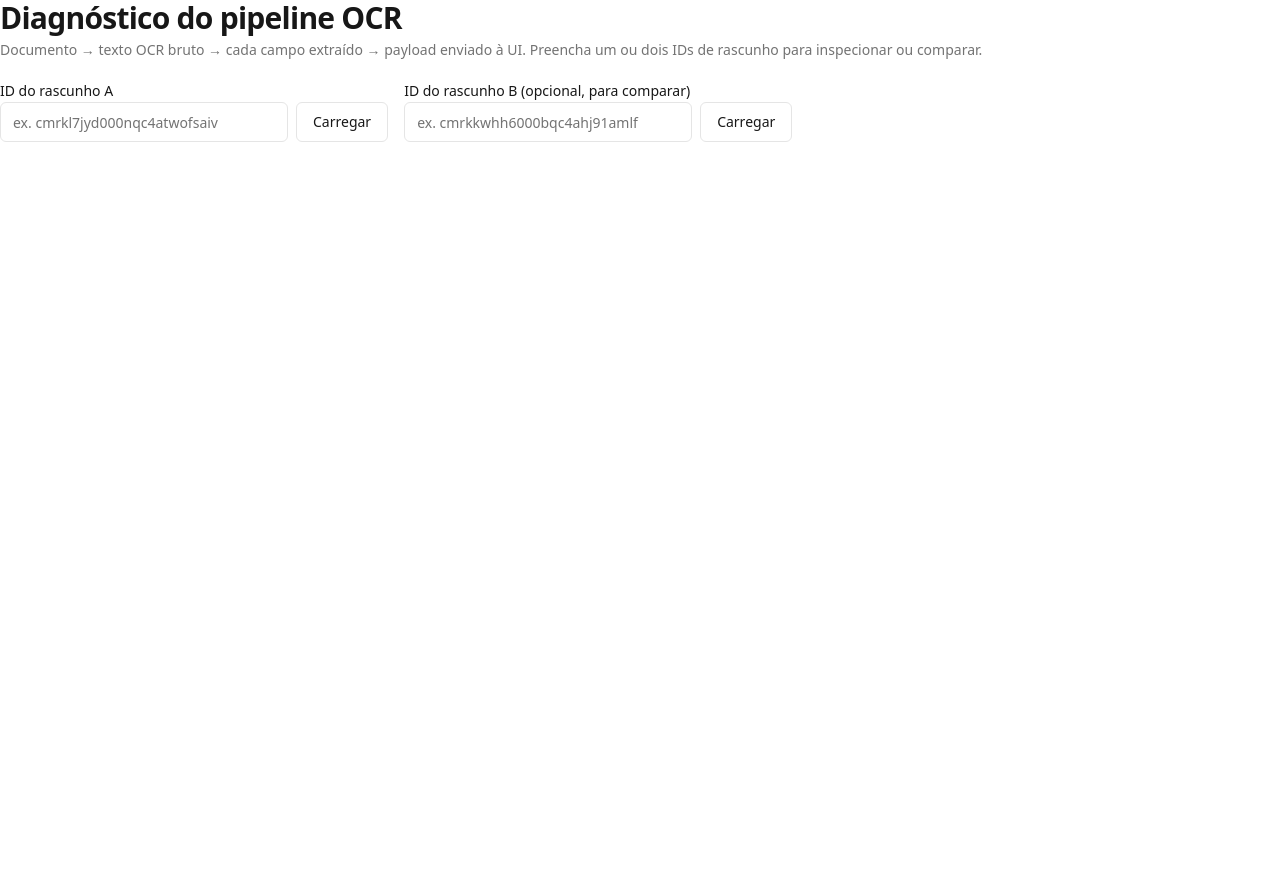
Test case: InvoiceDraftDebugPage (Fase 6.8+) › permite carregar dois rascunhos lado a lado para comparação
This screenshot has width=1280, height=892.
Type "draft-1" into the field with placeholder "ex. cmrkl7jyd000nqc4atwofsaiv" at (144, 122), box [0, 102, 288, 142]
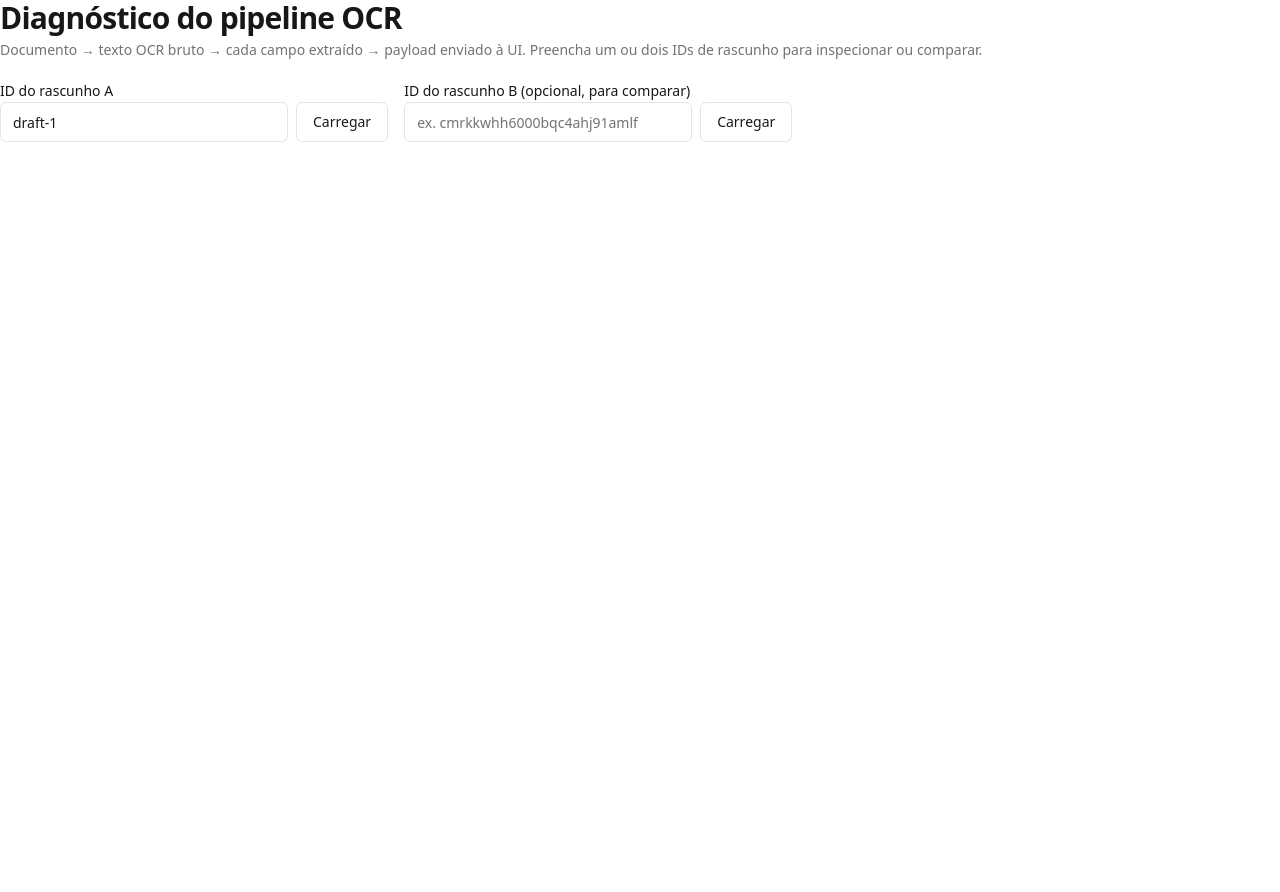
Click the button "Carregar" below "ID do rascunho A" at (342, 122), box [296, 102, 388, 142]
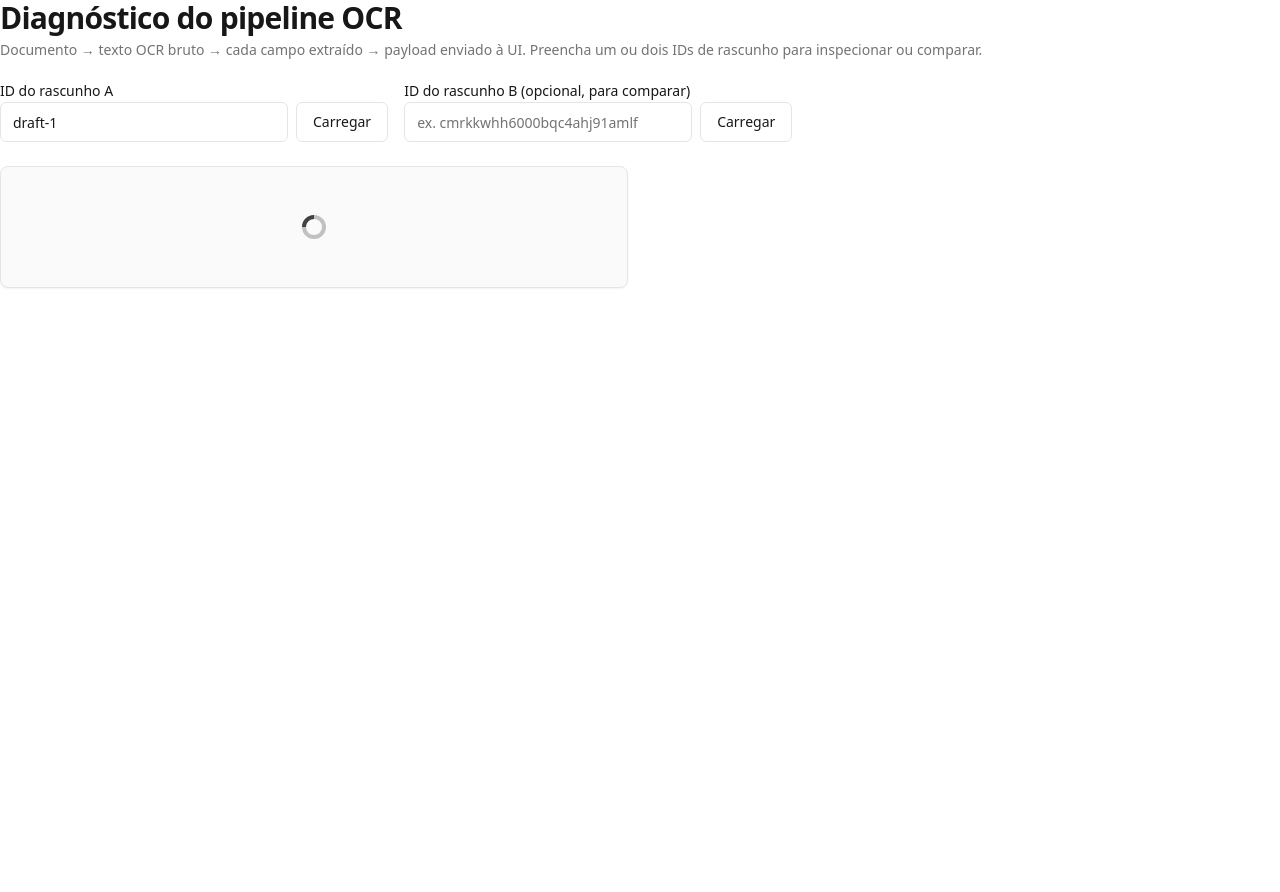
Type "draft-2" into the field with placeholder "ex. cmrkkwhh6000bqc4ahj91amlf" at (548, 122), box [404, 102, 692, 142]
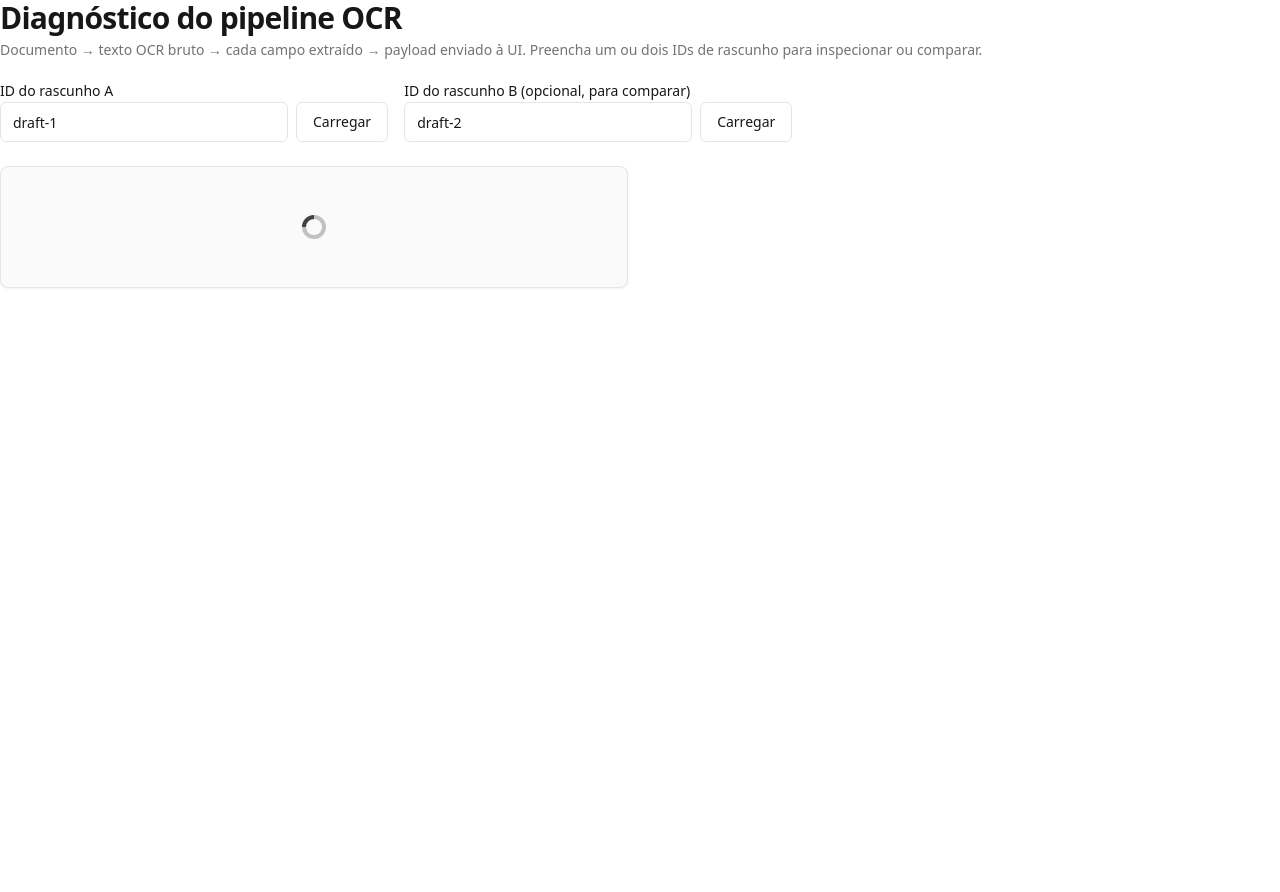
Click the 2nd button "Carregar" at (746, 122), box [700, 102, 792, 142]
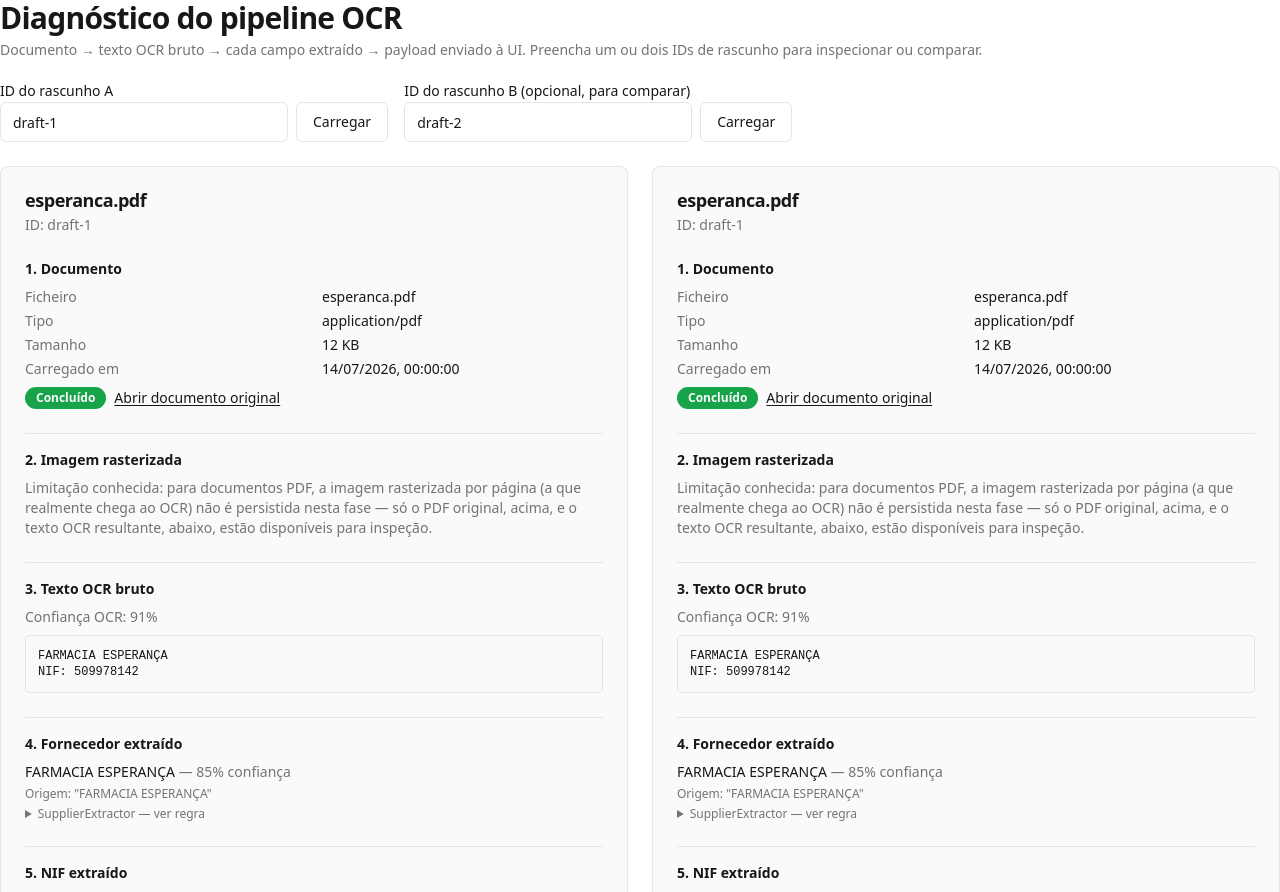
Expected: the number of headings "esperanca.pdf" is 2, [25, 188, 146, 212]; [677, 188, 798, 212]
